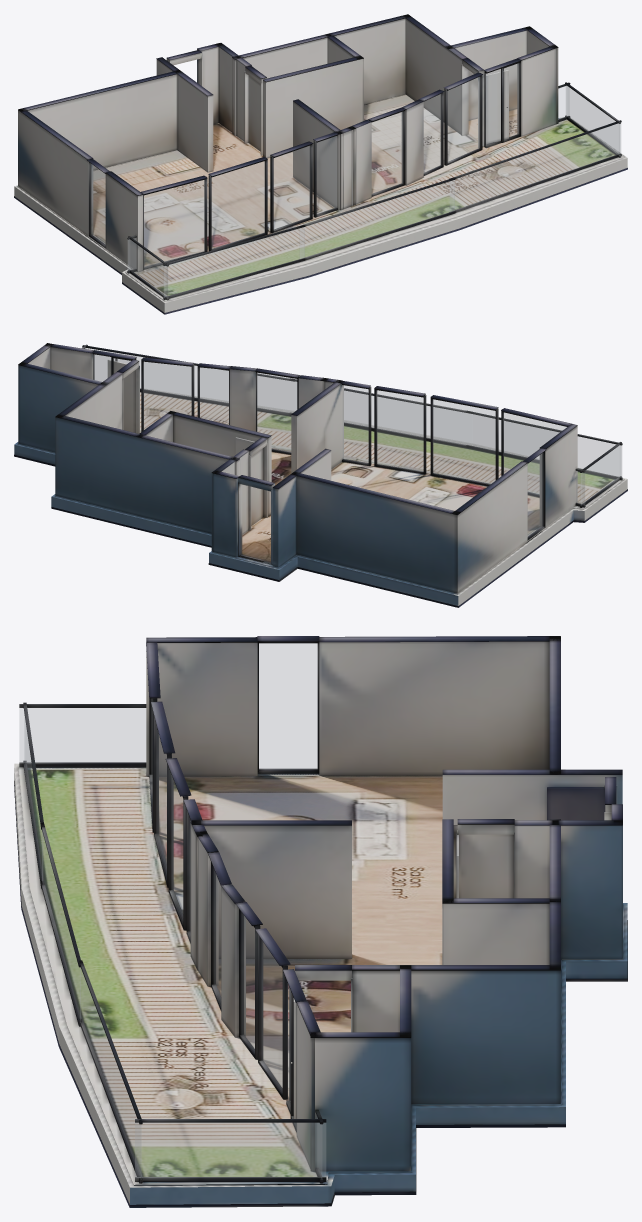
3 renders of one model, top to bottom at view 1: azimuth 30°, elevation 25°; view 2: azimuth 150°, elevation 25°; view 3: azimuth 270°, elevation 25°, orthographic. The views are drawn at different scales.
Visible parts, largest first — view 1: plan, railg3_m, railg4_m, railg5_m, glass0_m, glass1_m, glass2_m, glass4_m, glass6_m, glass7_m, railg1_m, glass3_m (+3 smaller); view 2: plan, glass1_m, railg3_m, railg4_m, glass2_m, railg5_m, glass6_m, glass4_m, glass0_m, glass3_m, glass5_m, railg2_m (+2 smaller); view 3: plan, railg1_m, glass8_m, railg2_m, railg3_m, glass6_m, railg4_m, glass5_m, glass2_m, glass1_m, railg5_m, glass4_m.
Part boxes in pixels (x1,y1,x2,y2): plan: (14, 14, 627, 314); railg3_m: (450, 123, 620, 211); railg4_m: (300, 180, 454, 258); railg5_m: (164, 227, 304, 297); glass0_m: (144, 180, 204, 266); glass1_m: (212, 161, 264, 248); glass2_m: (274, 146, 310, 229); glass4_m: (372, 112, 403, 193); glass6_m: (448, 77, 479, 161); glass7_m: (485, 63, 518, 145); railg1_m: (566, 86, 620, 154); glass3_m: (317, 136, 336, 214); plan: (14, 343, 627, 607); glass1_m: (433, 399, 495, 483); railg3_m: (85, 348, 294, 412); railg4_m: (296, 382, 466, 444); glass2_m: (377, 390, 423, 471); railg5_m: (472, 414, 621, 477); glass6_m: (143, 362, 191, 429); glass4_m: (257, 373, 296, 451); glass0_m: (503, 413, 566, 494); glass3_m: (343, 385, 368, 463); glass5_m: (200, 368, 228, 424); railg2_m: (581, 445, 620, 504); plan: (14, 636, 627, 1207); railg1_m: (135, 1123, 325, 1177); glass8_m: (259, 643, 317, 769); railg2_m: (19, 708, 145, 762); railg3_m: (81, 969, 141, 1179); glass6_m: (261, 940, 282, 1090); railg4_m: (42, 832, 80, 1022); glass5_m: (241, 912, 254, 1051); glass2_m: (171, 775, 182, 918); glass1_m: (156, 726, 166, 872); railg5_m: (24, 716, 42, 882); glass4_m: (214, 870, 220, 1001).
Bounding box in the file's own units: 15.36 × 2.62 × 9.38.
Materials: 2 (1 with a texture image).
